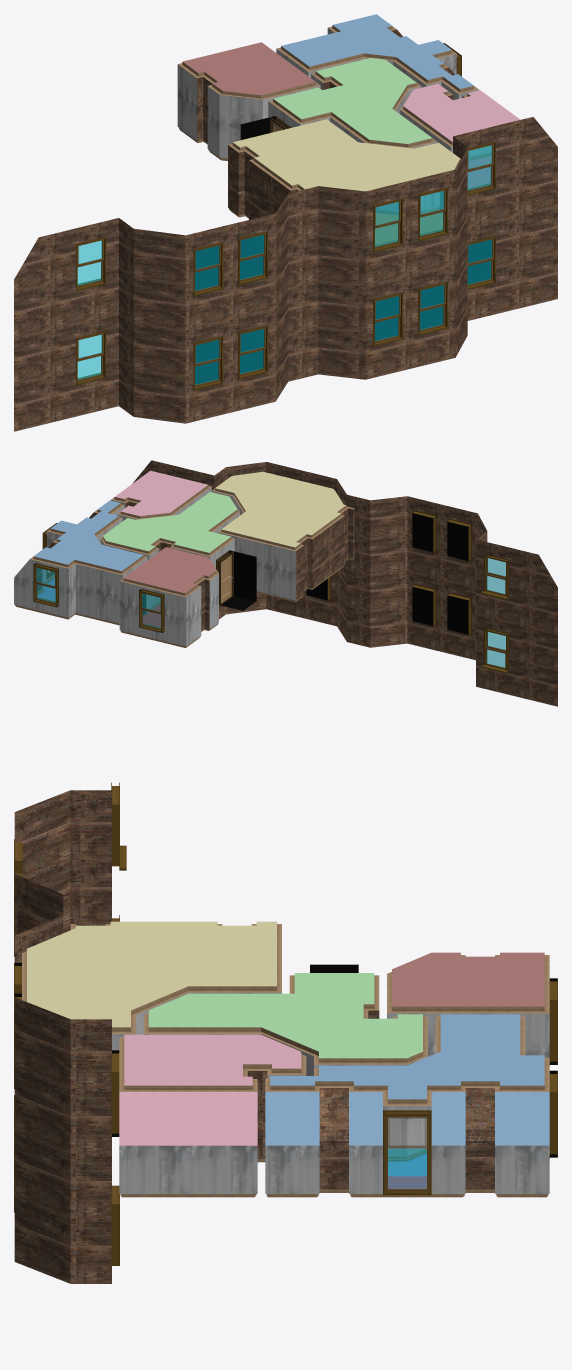
The model's file is level_06.fbx.
3 renders of one model, top to bottom at view 1: azimuth 30°, elevation 25°; view 2: azimuth 150°, elevation 25°; view 3: azimuth 270°, elevation 25°, orthographic. The views are drawn at different scales.
Parts seen in each view (by area): view 1: Plane.000, Plane.055, Plane.059, Plane.058, Plane.056, Plane.052, Plane.014, Plane.053, Plane.068, Plane.067, Plane.070, Plane.062 (+20 smaller); view 2: Plane.000, Plane.058, Plane.055, Plane.059, Plane.056, Plane.015, Plane.061, Plane.060, Plane.026, Plane.033, Plane.063, Plane.064 (+8 smaller); view 3: Plane.000, Plane.016, Plane.060, Plane.026.
Part boxes in pixels (x1=…): Plane.000: x1=14, y1=14, x2=557, y2=431; Plane.055: x1=193, y1=336, x2=223, y2=390; Plane.059: x1=193, y1=242, x2=223, y2=296; Plane.058: x1=238, y1=231, x2=268, y2=285; Plane.056: x1=238, y1=325, x2=268, y2=379; Plane.052: x1=373, y1=292, x2=403, y2=346; Plane.014: x1=418, y1=281, x2=448, y2=335; Plane.053: x1=467, y1=236, x2=495, y2=289; Plane.068: x1=240, y1=327, x2=266, y2=354; Plane.067: x1=195, y1=338, x2=221, y2=365; Plane.070: x1=195, y1=244, x2=221, y2=271; Plane.062: x1=77, y1=333, x2=103, y2=360; Plane.000: x1=14, y1=460, x2=557, y2=706; Plane.058: x1=412, y1=510, x2=436, y2=552; Plane.055: x1=447, y1=592, x2=471, y2=634; Plane.059: x1=447, y1=518, x2=471, y2=560; Plane.056: x1=412, y1=583, x2=436, y2=626; Plane.015: x1=221, y1=555, x2=232, y2=603; Plane.061: x1=480, y1=628, x2=509, y2=673; Plane.060: x1=480, y1=554, x2=509, y2=599; Plane.026: x1=33, y1=563, x2=60, y2=607; Plane.033: x1=139, y1=589, x2=165, y2=632; Plane.063: x1=485, y1=647, x2=505, y2=669; Plane.064: x1=485, y1=573, x2=505, y2=595; Plane.000: x1=14, y1=790, x2=557, y2=1283; Plane.016: x1=383, y1=1110, x2=431, y2=1195; Plane.060: x1=111, y1=782, x2=126, y2=870; Plane.026: x1=549, y1=1070, x2=557, y2=1158.
Size of what is drawn, in the model's own units: 18.16 by 11.18 by 6.
